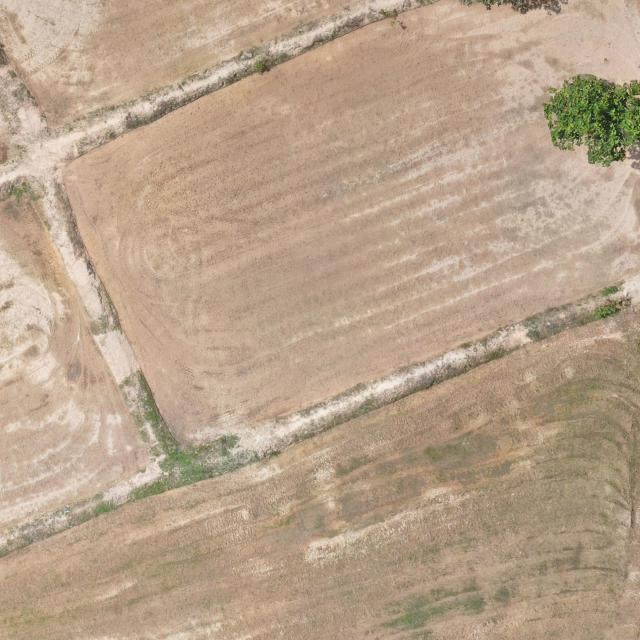Tree: (539, 72, 640, 170)
